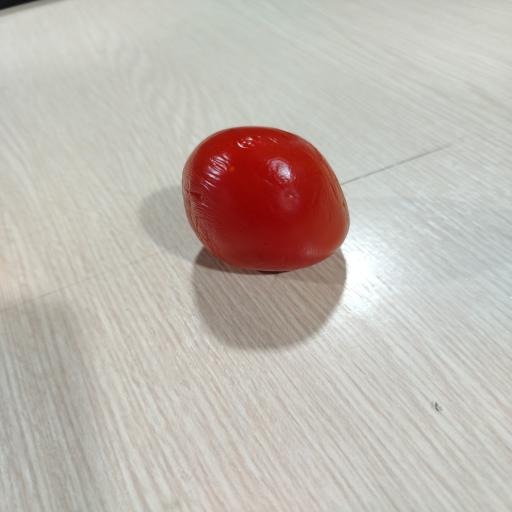spoiled: (183, 126, 349, 271)
